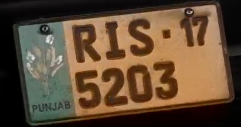RIS5203: (5, 5, 239, 125)
